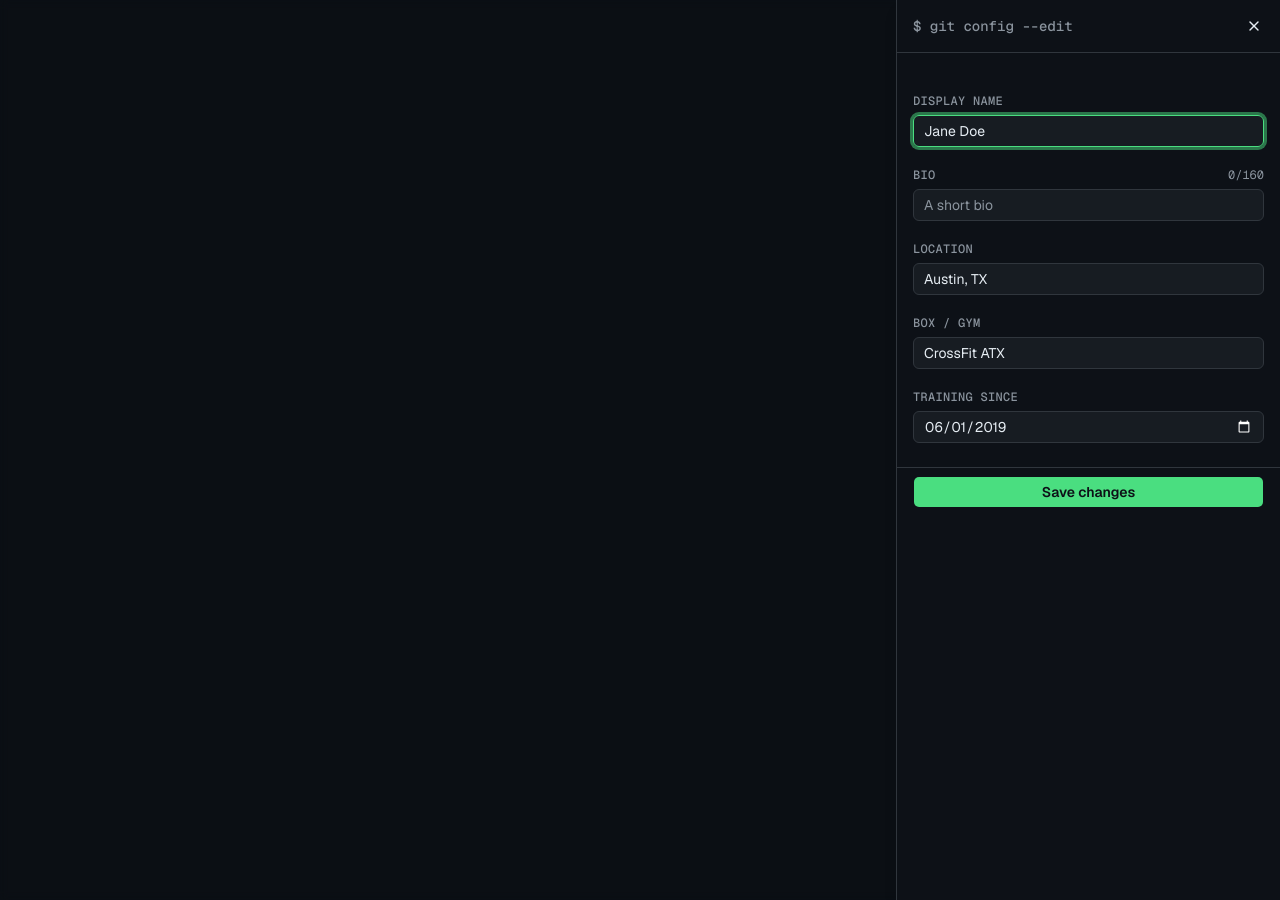
Test: EditIdentitySheet › updates bio char counter as user types
The width and height of the screenshot is (1280, 900).
Type "Hello" into the field with placeholder "A short bio".
click(1088, 205); type("Hello")  # box [913, 189, 1264, 221]
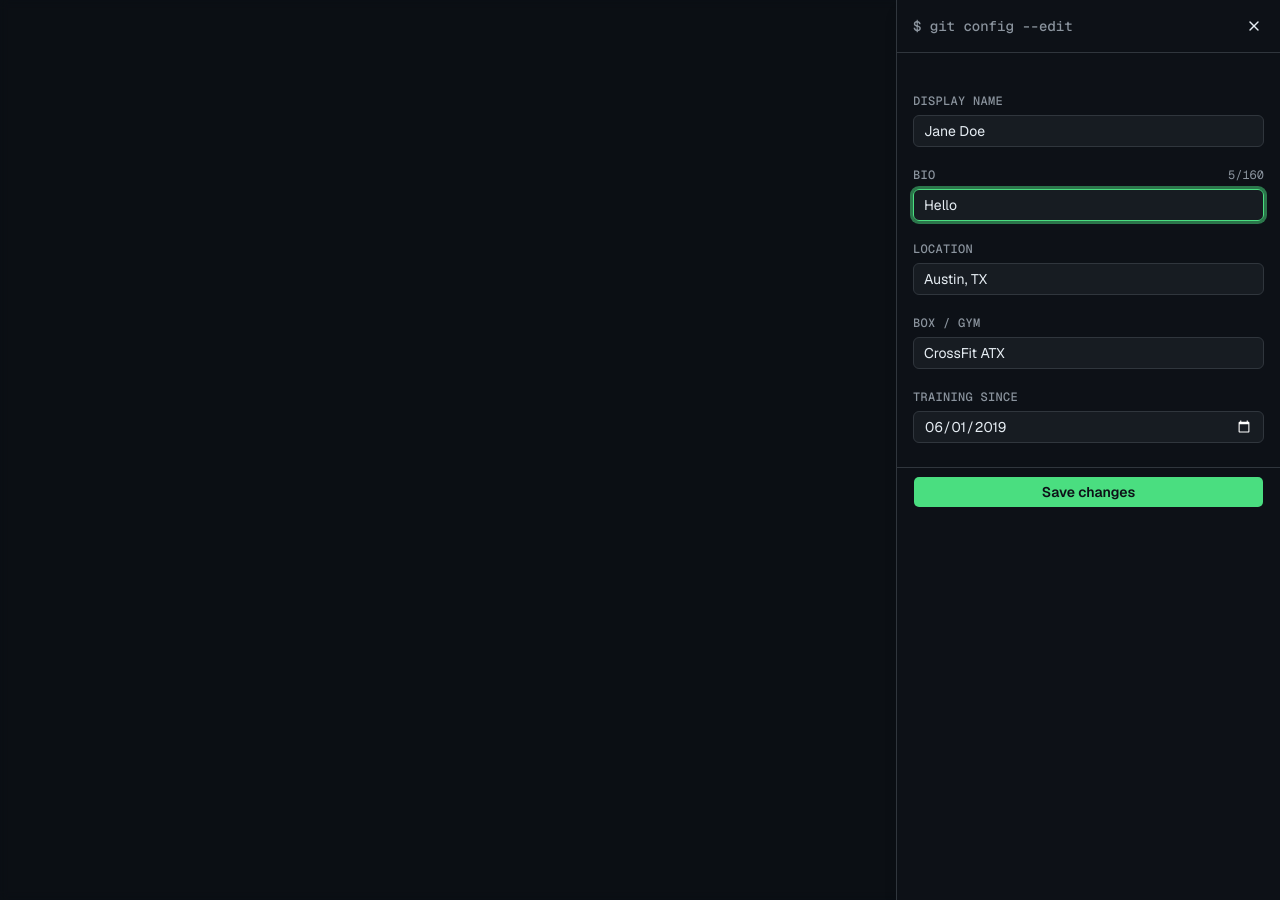
expect the text "5/160" is shown: met, box [1228, 167, 1264, 183]
